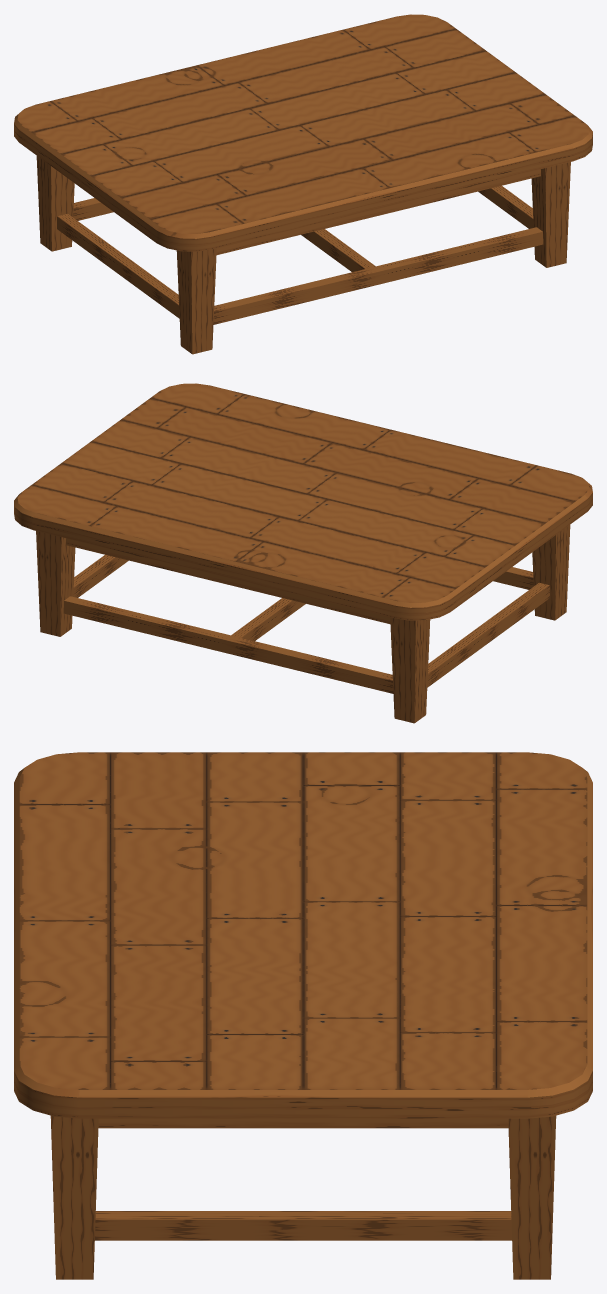
The model's file is Table_Tavern.fbx.
3 renders of one model, top to bottom at view 1: azimuth 30°, elevation 25°; view 2: azimuth 150°, elevation 25°; view 3: azimuth 270°, elevation 25°, orthographic. The views are drawn at different scales.
Visible parts, largest first — view 1: Table_Tavern; view 2: Table_Tavern; view 3: Table_Tavern.
Boxes of the visible parts, bbox=[...] form: Table_Tavern: bbox=[14, 14, 592, 354]; Table_Tavern: bbox=[14, 383, 592, 723]; Table_Tavern: bbox=[14, 752, 592, 1279].
Size of the model in its own units: 5.6 by 1.6 by 4.
Materials: 1 (1 with a texture image).
